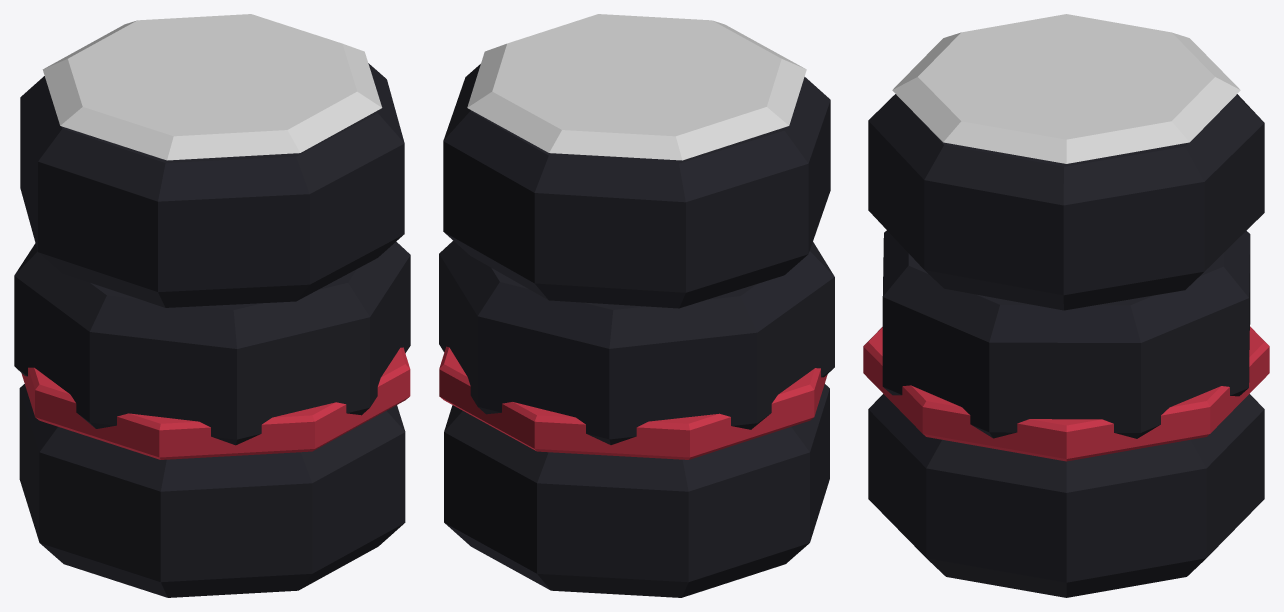
Rendered from tire_stack.glb.
3 renders of one model, left to right at view 1: azimuth 30°, elevation 25°; view 2: azimuth 150°, elevation 25°; view 3: azimuth 270°, elevation 25°, orthographic.
Parts seen in each view (by area): view 1: tire_stack; view 2: tire_stack; view 3: tire_stack.
Part boxes in pixels (x1=…): tire_stack: x1=14, y1=14, x2=410, y2=597; tire_stack: x1=439, y1=14, x2=834, y2=597; tire_stack: x1=863, y1=14, x2=1269, y2=597.
Size of the model in its own units: 0.41 by 0.5 by 0.41.
